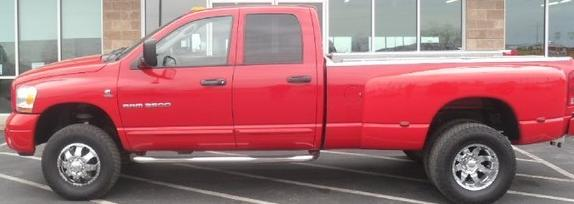headlight: (8, 78, 44, 115)
side_glass: (114, 10, 314, 79)
